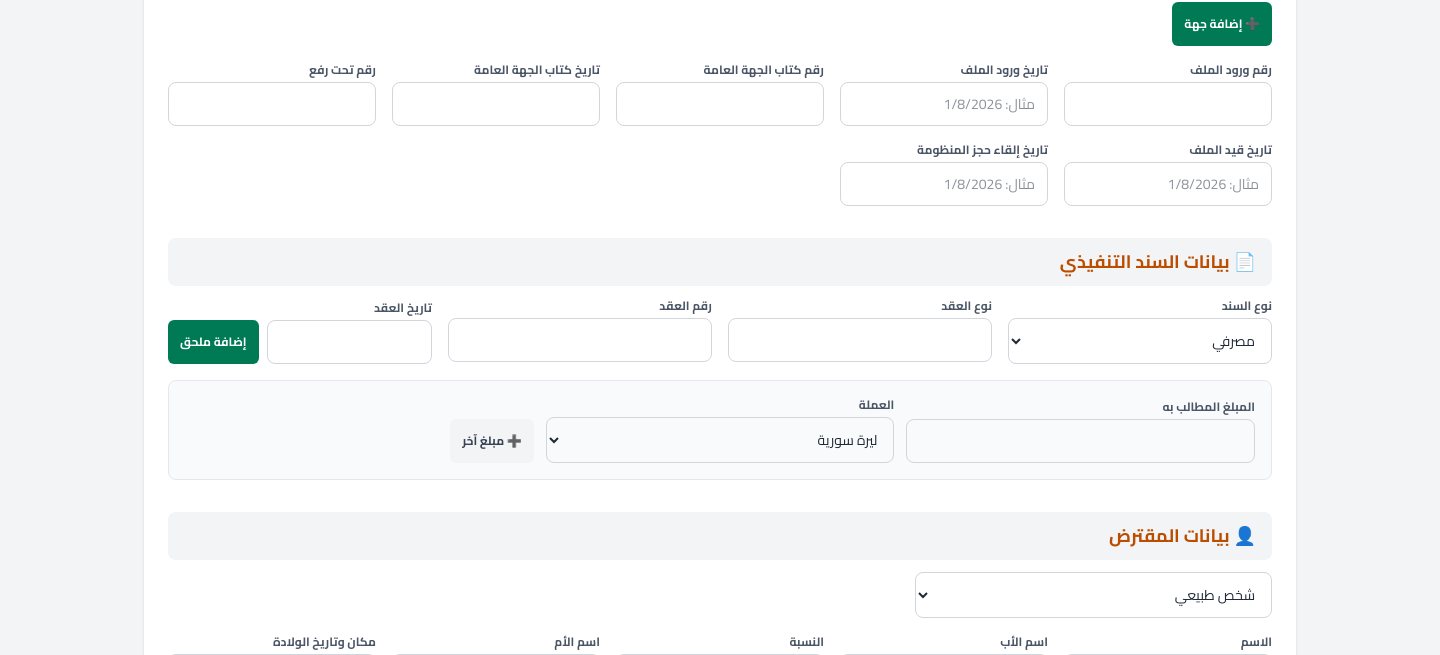
Scenario: DocumentForm · الحقول والحمولات › يطبّق منطق «عادي» الخاص بتطبيق سطح المكتب
(page scrolled)
Select "عادي" in the dropdown labelled "نوع السند". click: point(1140, 341)
box: [1008,318,1272,364]
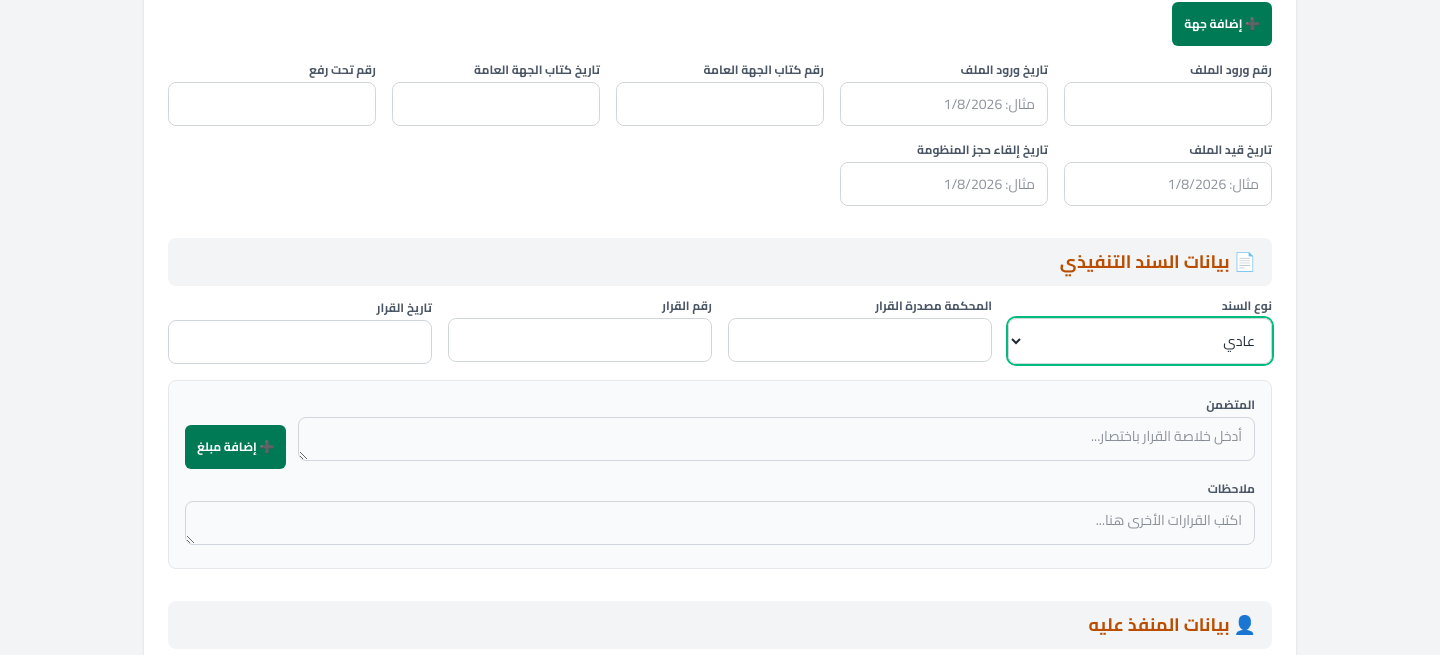
Result: the text "المحكمة مصدرة القرار" is shown at [875,294,992,317]
Result: the text "رقم القرار" is shown at [662,294,712,317]
Result: the text "تاريخ القرار" is shown at [376,296,432,319]
Select "مصرفي" in the dropdown labelled "نوع السند". click: point(1140, 341)
box: [1008,318,1272,364]
(page scrolled)
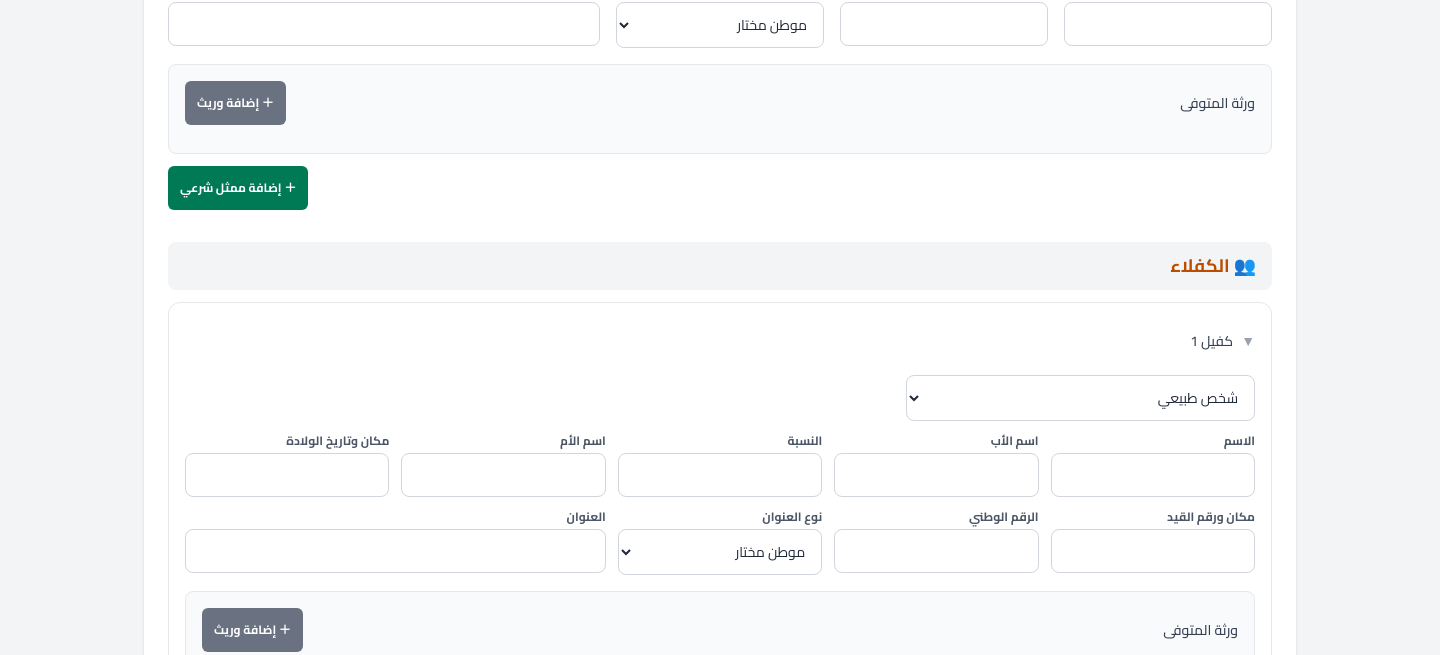
Result: the text "المتضمن" is gone
Result: the text "كفيل 1" is shown at [1190,331,1233,351]
